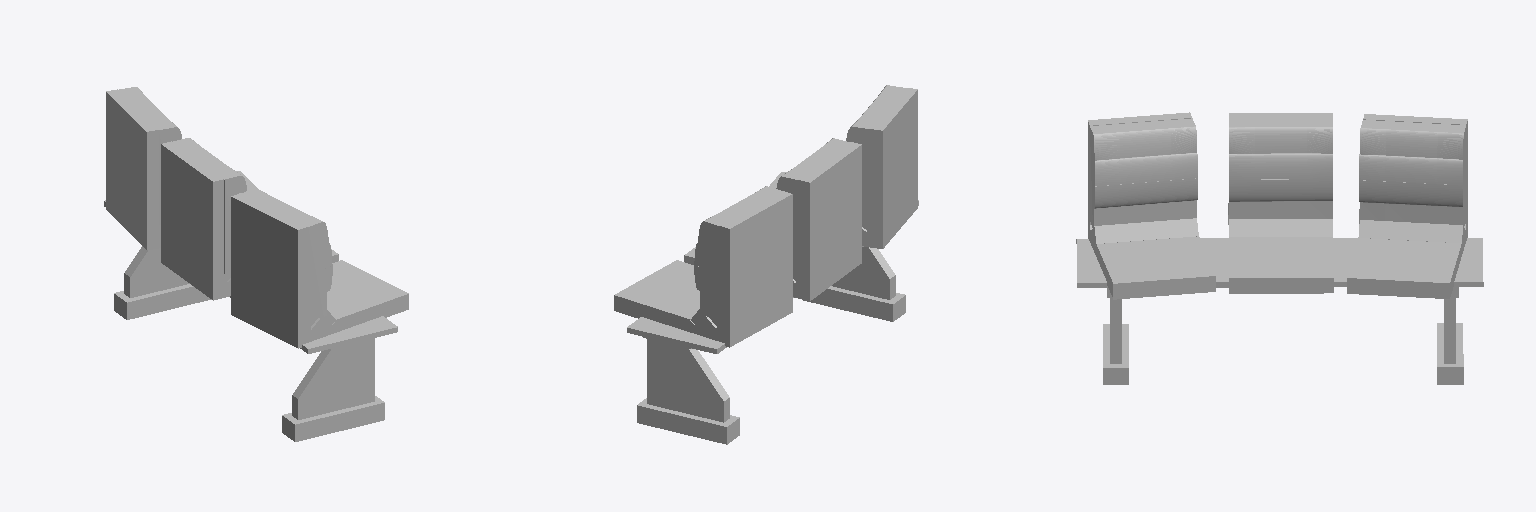
The model's file is sillasMult.obj.
3 views of the same model, side by side, from view 1: azimuth 30°, elevation 25°; view 2: azimuth 150°, elevation 25°; view 3: azimuth 270°, elevation 25° (orthographic).
Visible parts, largest first — view 1: polySurface161; view 2: polySurface161; view 3: polySurface161.
Boxes of the visible parts, <box> form: polySurface161: <box>104,87,408,441</box>; polySurface161: <box>614,85,918,444</box>; polySurface161: <box>1076,112,1483,384</box>.
Bounding box in the file's own units: 2.38 × 3.55 × 5.99.